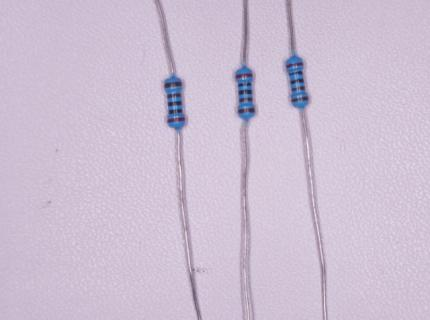Black band: (169, 109, 182, 114), (239, 90, 252, 95), (291, 79, 304, 84), (168, 102, 182, 106), (289, 71, 303, 75), (238, 83, 251, 87)
Brown band: (164, 82, 182, 88), (291, 97, 309, 102), (238, 108, 255, 113), (167, 93, 180, 99), (292, 86, 305, 91), (239, 98, 252, 102)
Red band: (168, 117, 185, 123), (286, 62, 303, 68), (235, 74, 253, 79)
